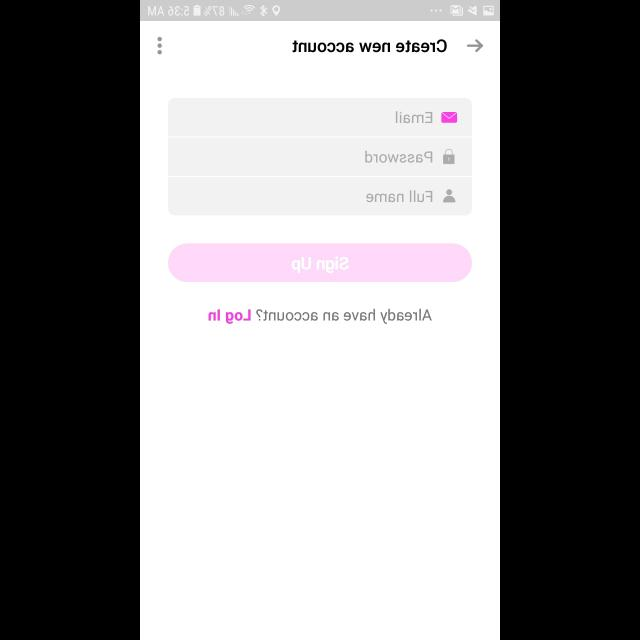icon: (442, 189, 456, 203), (467, 40, 483, 52), (441, 112, 457, 124), (442, 150, 454, 164), (157, 37, 163, 55)
input: (168, 138, 472, 176), (168, 178, 472, 216), (168, 99, 472, 137)
text: (208, 308, 432, 324), (292, 39, 446, 53), (366, 191, 434, 203), (364, 151, 432, 163), (396, 111, 432, 123)
textbutton: (168, 244, 472, 282)
uppertaskbar: (140, 1, 500, 22)
